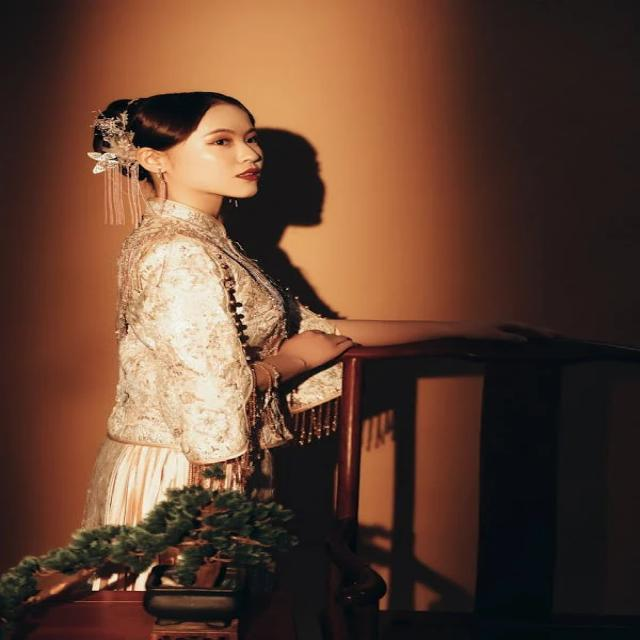Real human 2: (77, 78, 420, 582)
